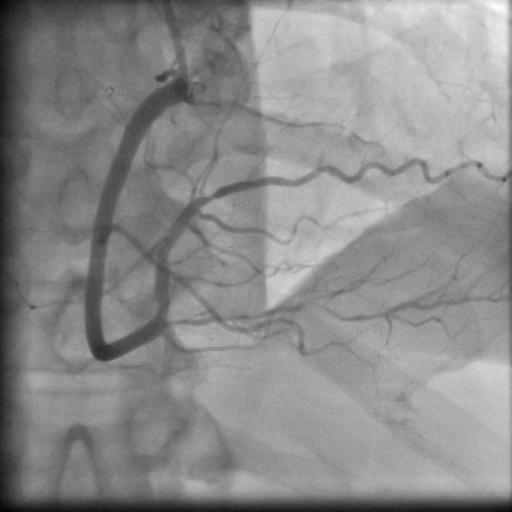Stenosis: (198, 191, 222, 206)
